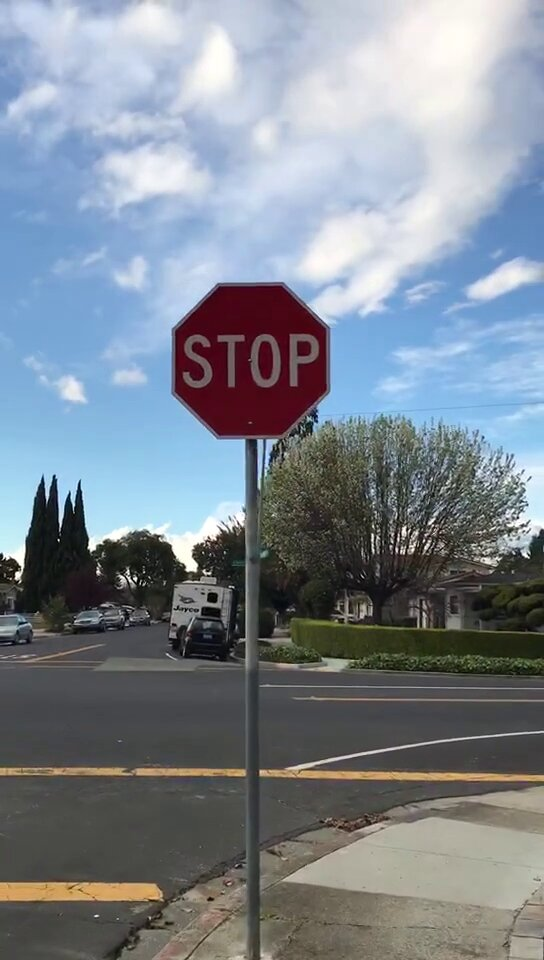stop_sign: (172, 286, 331, 436)
